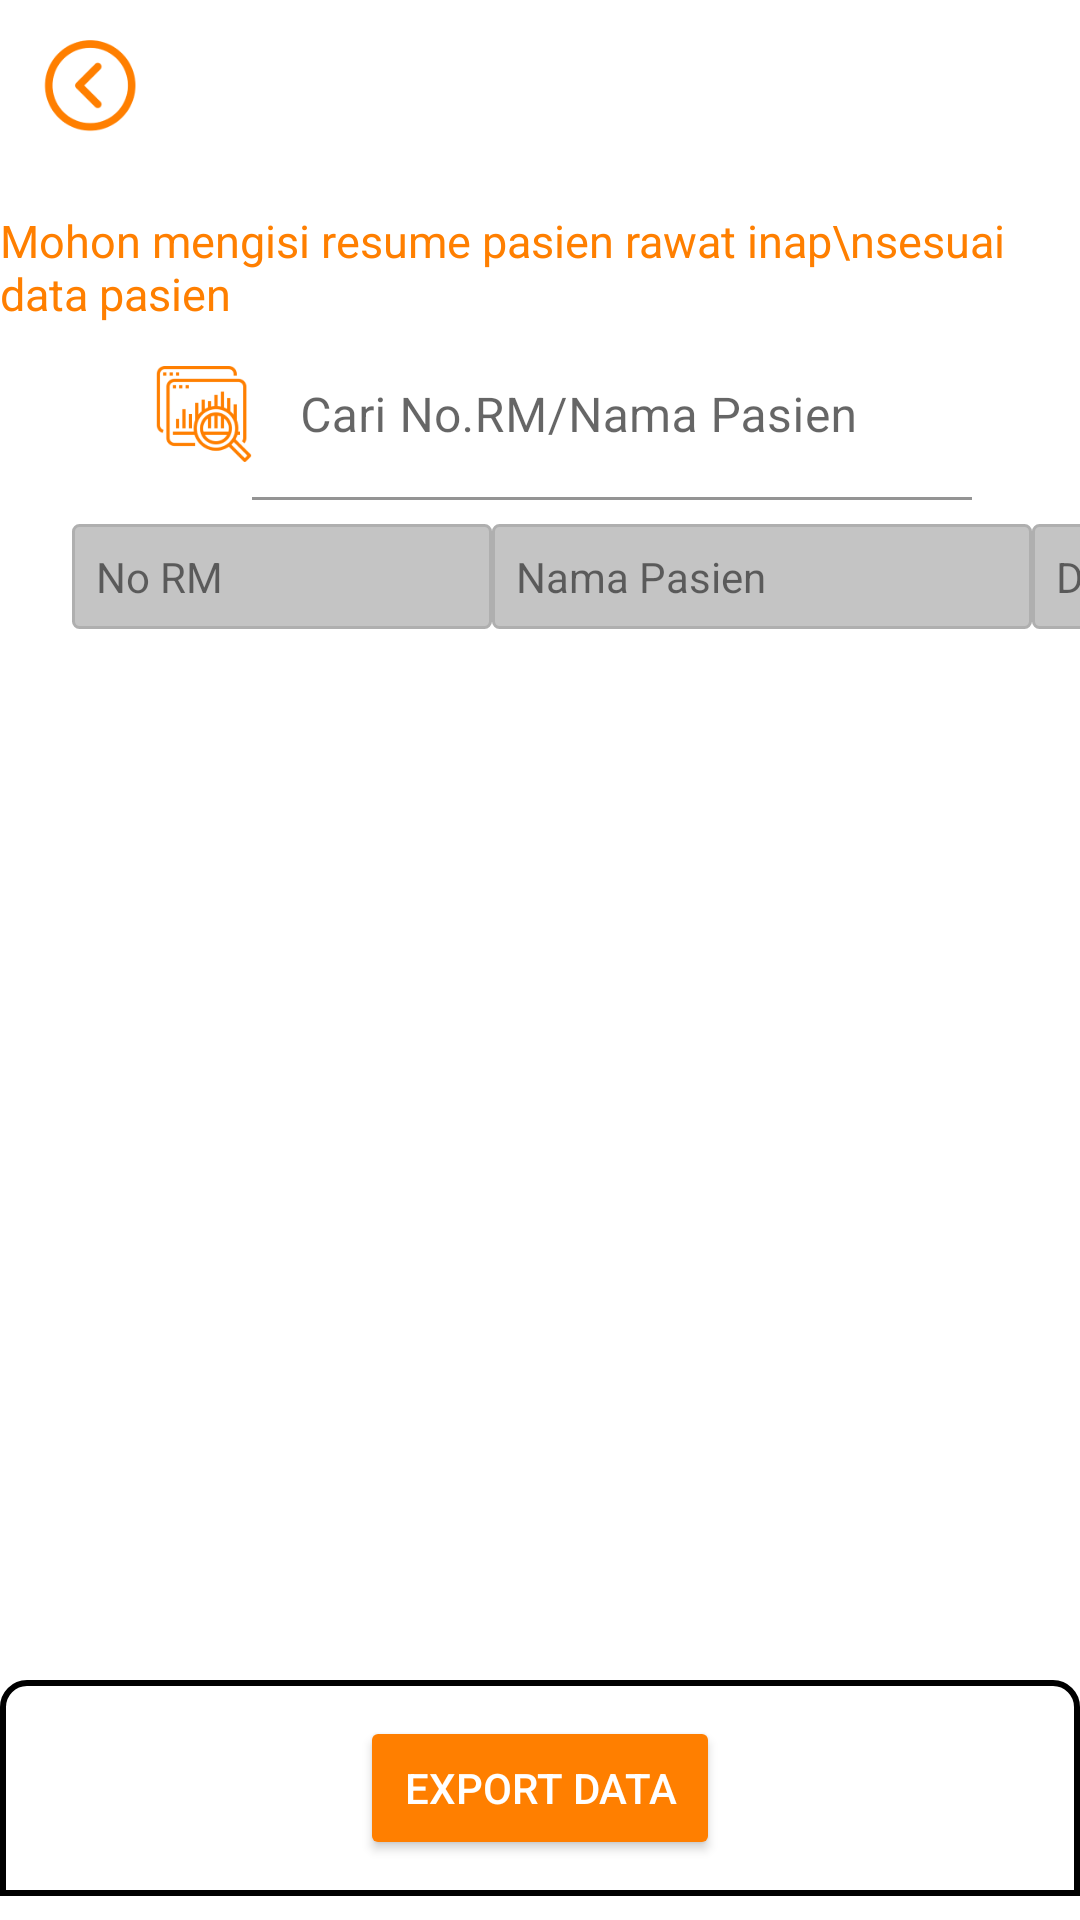

Icons on this 1080px×1920px Android screen, each with its box as rect(x1, y1, x2, y2):
back: rect(44, 40, 136, 131)
caridata: rect(156, 366, 252, 462)
